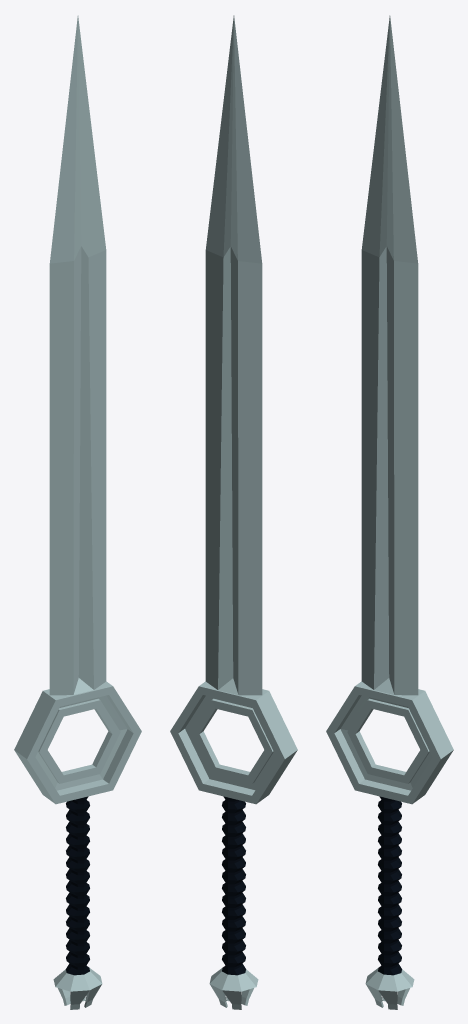
File: Sword_mk_2.fbx
3 renders of one model, left to right at view 1: azimuth 30°, elevation 25°; view 2: azimuth 150°, elevation 25°; view 3: azimuth 330°, elevation 25°, orthographic.
Visible parts, largest first — view 1: Sword_mk_2; view 2: Sword_mk_2; view 3: Sword_mk_2.
Part boxes in pixels (x1,y1,x2,y2): Sword_mk_2: (14,15,141,1009); Sword_mk_2: (170,15,297,1009); Sword_mk_2: (326,15,453,1009).
Bounding box in the file's own units: 10.16 × 3.65 × 83.8.
